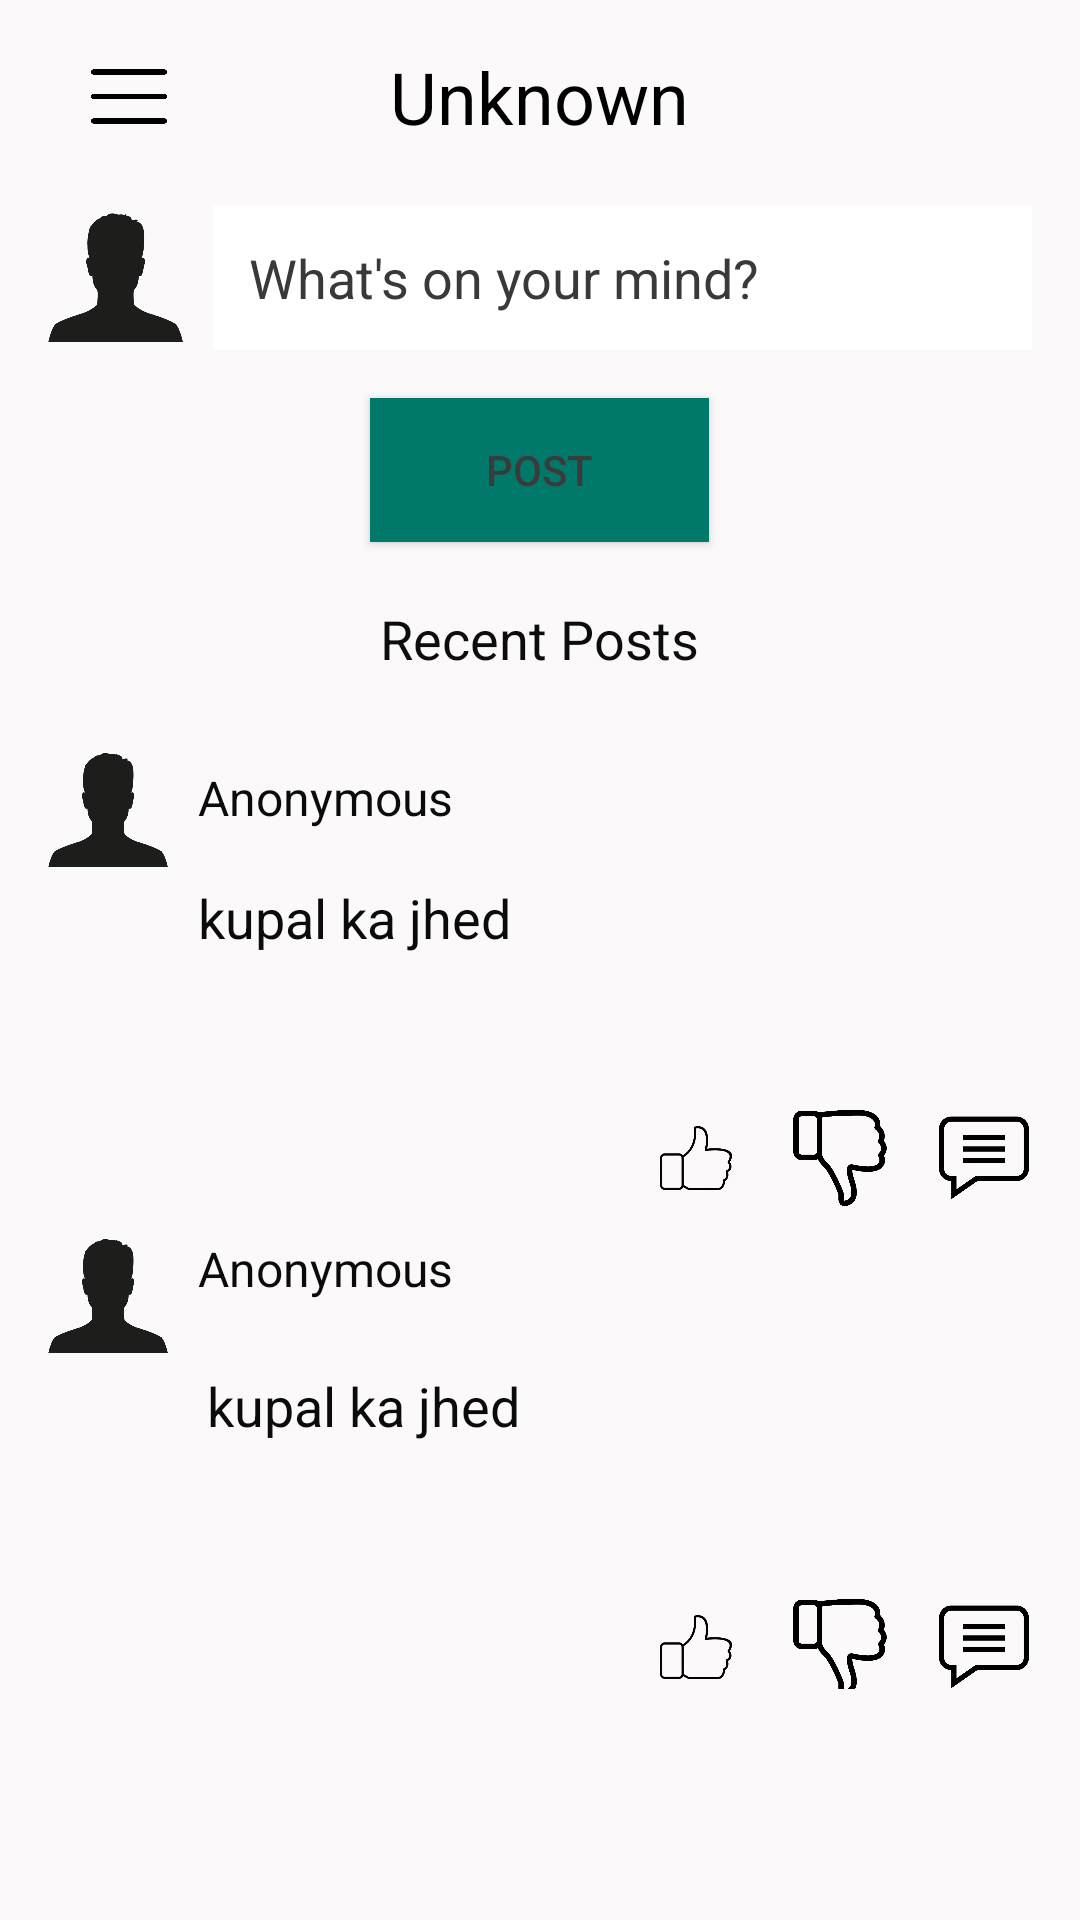

Point at icon controls on the screen. Image size 1080w x 1920h, points as point (x, y).
Comment: point (984, 1157), point (984, 1646)
Dislike: point (840, 1158), point (840, 1644)
Like: point (696, 1158), point (696, 1647)
Menu: point (129, 96)
